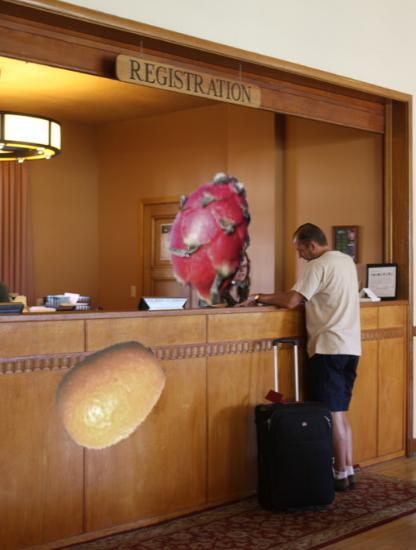Kumquats: (51, 335, 170, 454)
Pitahaya: (144, 175, 274, 305)
